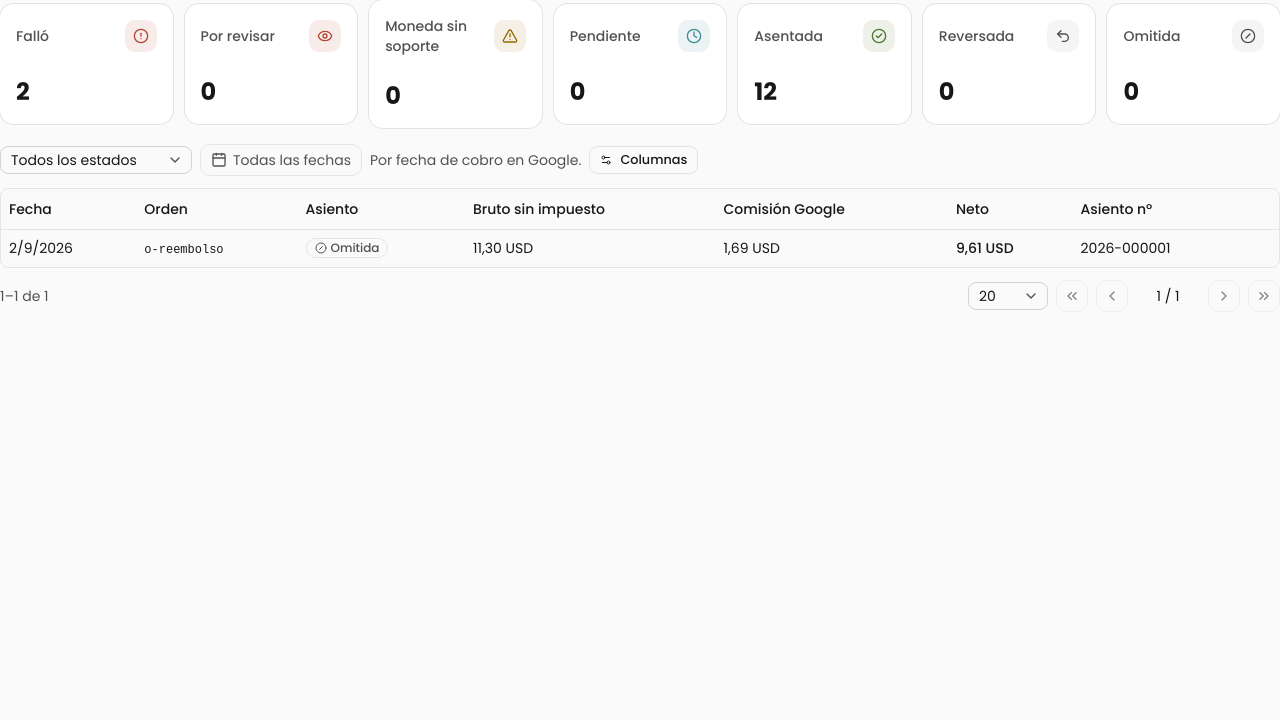
Test: FinancePlayOrders — detalle › muestra cuándo llegó el reembolso, si llegó
Step 1. Click the text "o-reembolso" → (184, 250), box left=144, top=243, right=224, bottom=257
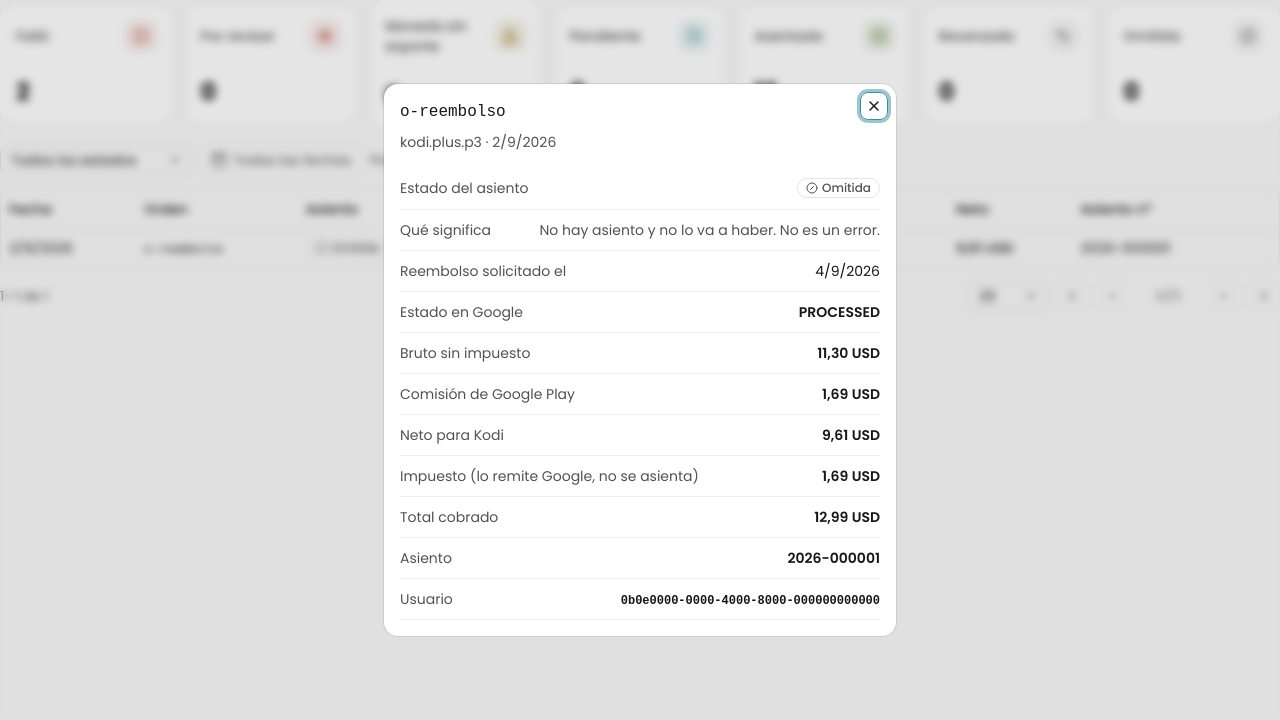
Expected: the text "Reembolso solicitado el" shows "4/9/2026", left=815, top=261, right=880, bottom=281
